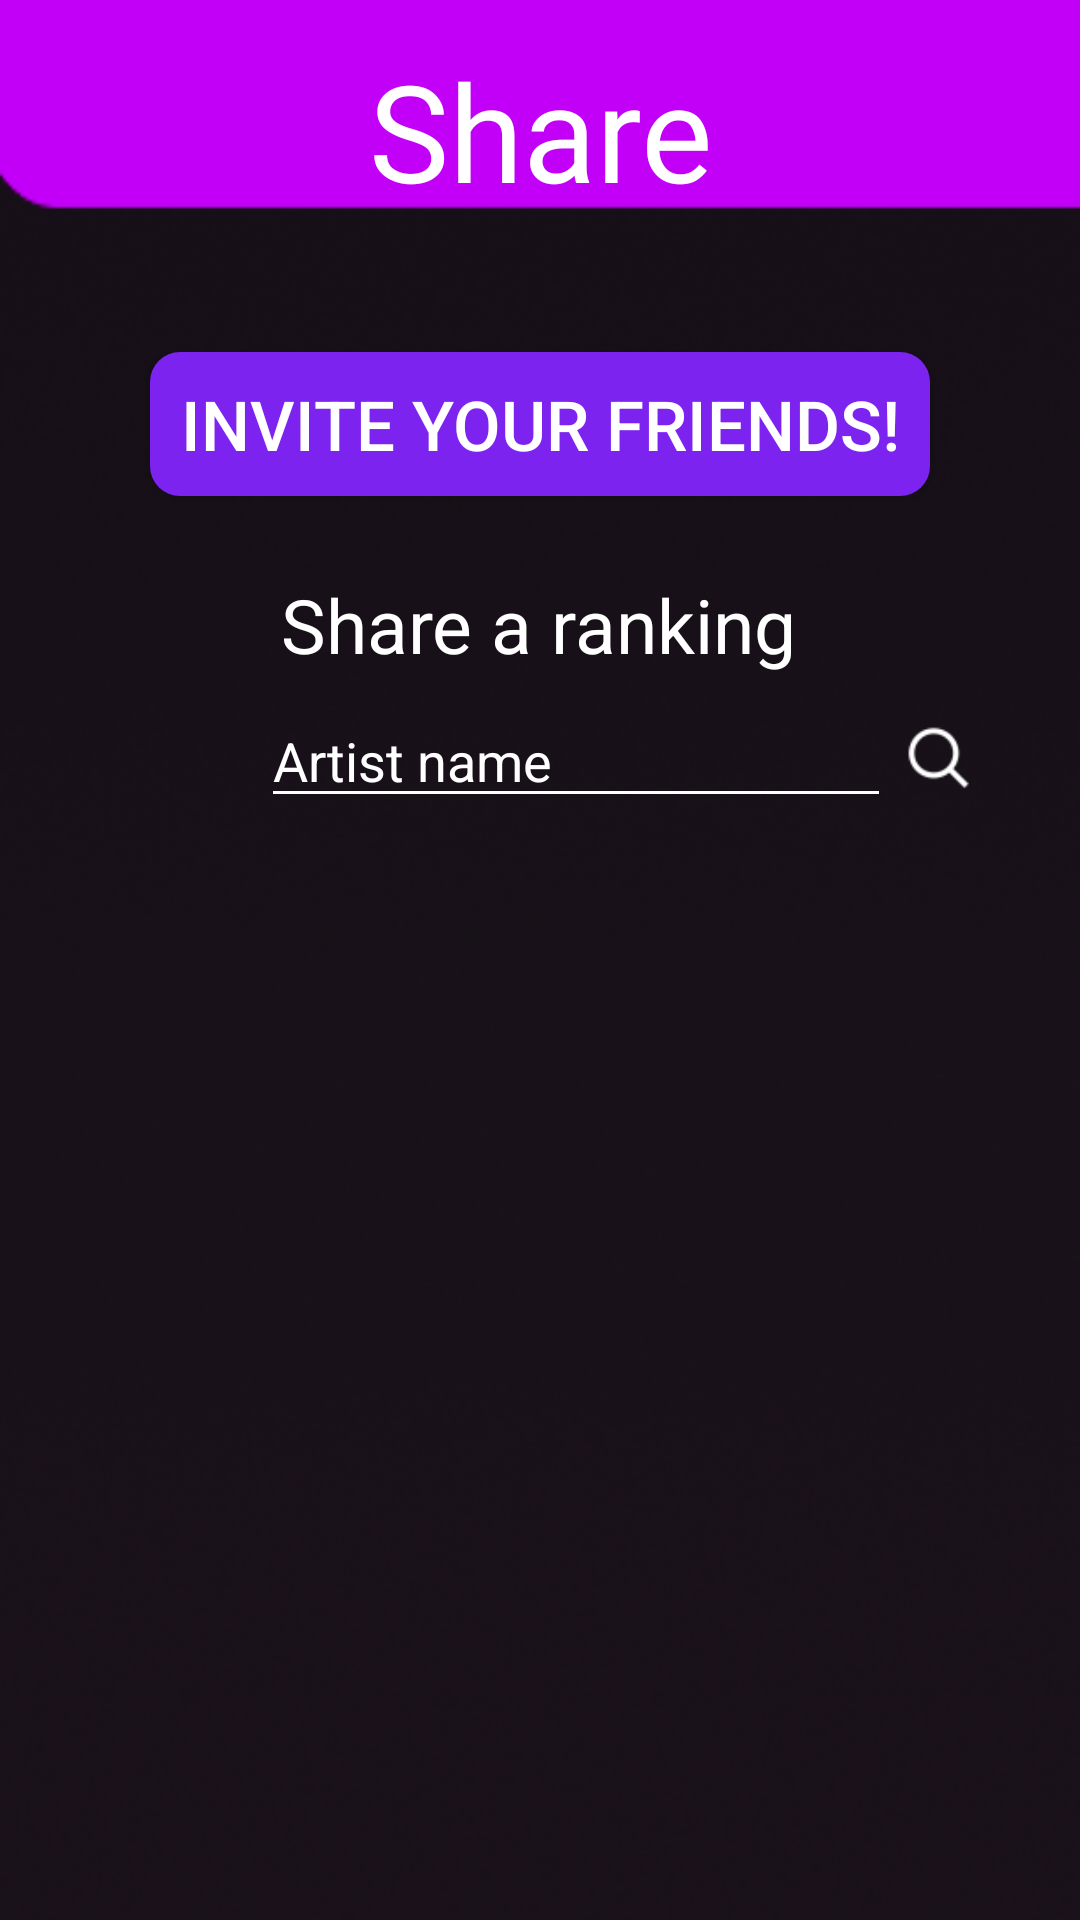

Icon click points for this 1080 × 1920 phone screenshot, format [x,y]:
loupe: [938,757]
